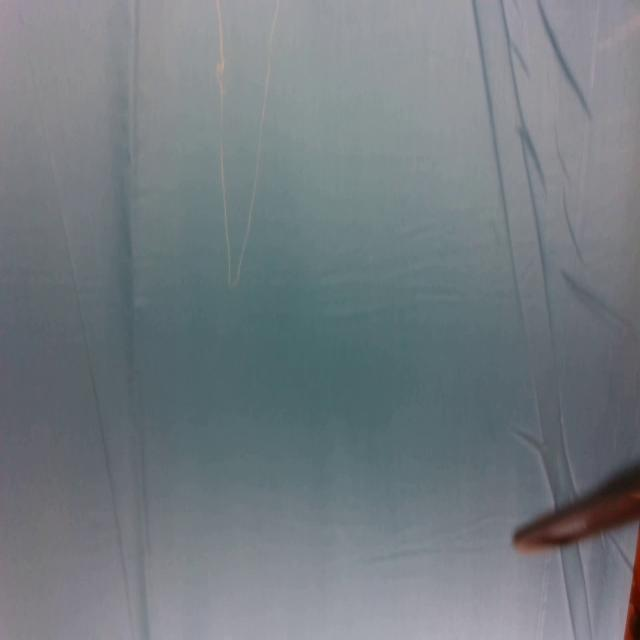crease: (21, 13, 135, 634), (471, 0, 599, 486), (560, 547, 596, 640)
